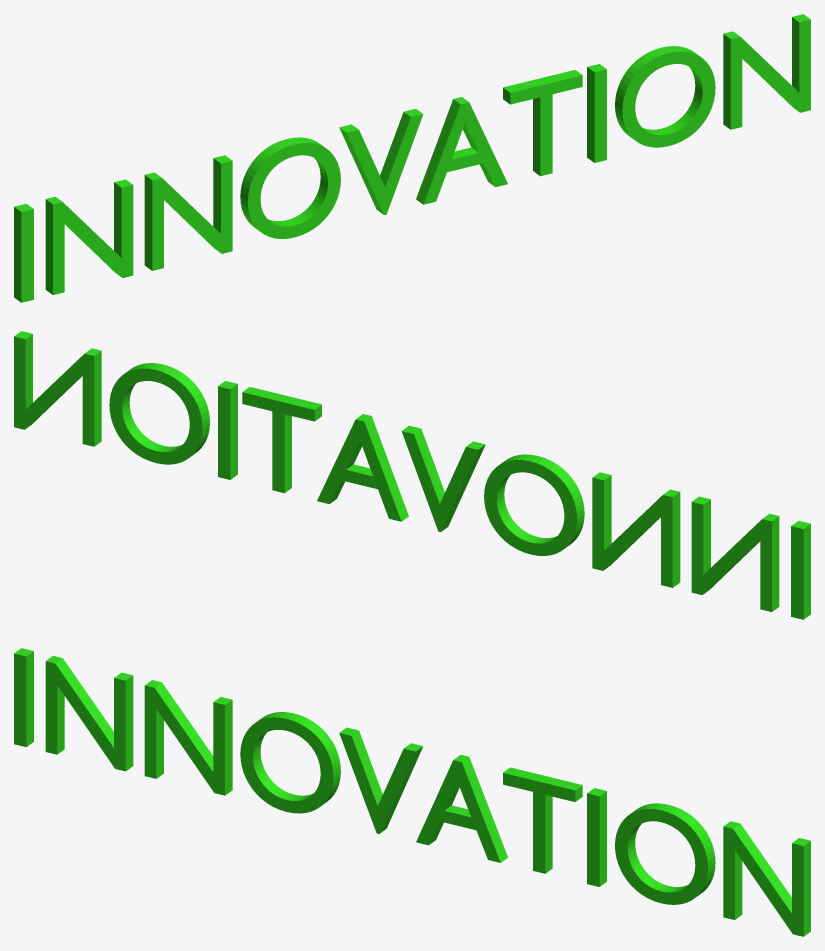
Rendered from innovation.glb.
3 views of the same model, one above another, from view 1: azimuth 30°, elevation 25°; view 2: azimuth 150°, elevation 25°; view 3: azimuth 330°, elevation 25° (orthographic).
Visible parts, largest first — view 1: Text; view 2: Text; view 3: Text.
Part boxes in pixels (<box>): Text: <box>14,14,810,302</box>; Text: <box>14,331,810,619</box>; Text: <box>14,648,810,936</box>.
Size of the model in its own units: 6.21 by 0.7 by 0.1018.
